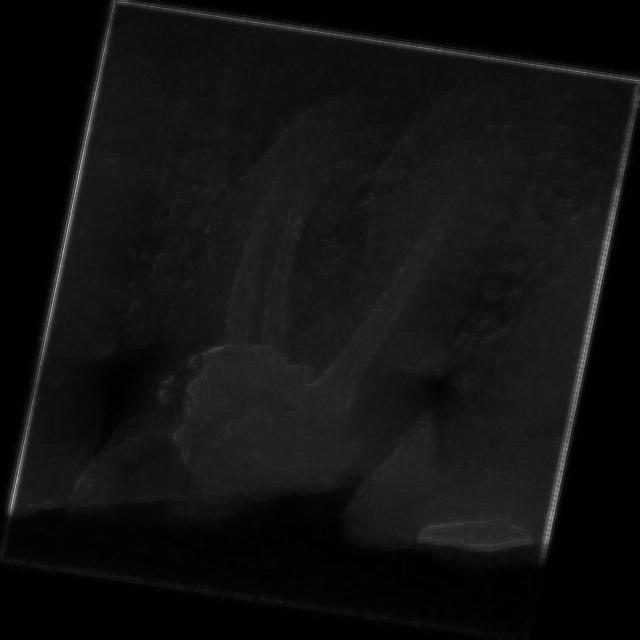Class 1- complete endodontic treatment: (90, 42, 548, 549)
